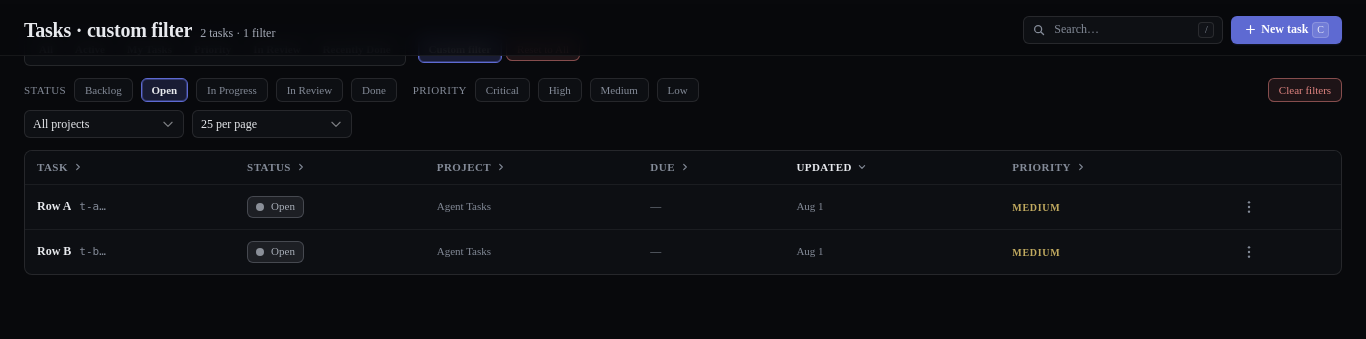
Test: /tasks row action dropping its row: focus recovery › a failed Move to backlog leaves no pending recovery behind
Click the button named "Actions for Row A": click(1249, 207) left=1235, top=193, right=1263, bottom=221
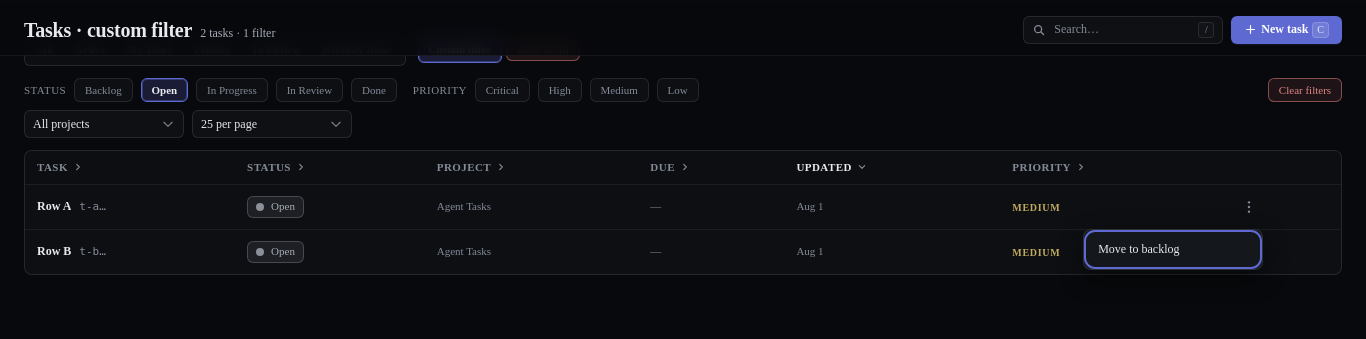
Click the menu item "Move to backlog": click(1173, 249) left=1088, top=234, right=1258, bottom=265
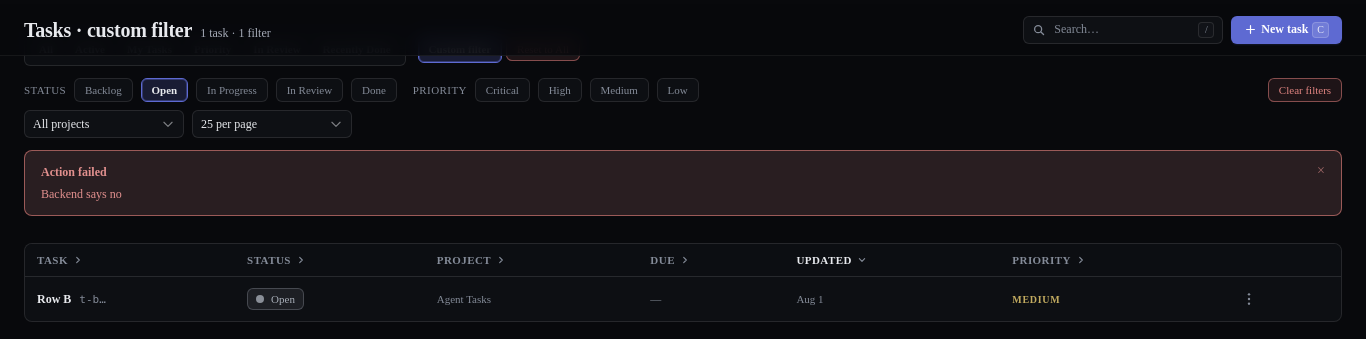
Check: the text "Action failed" is shown, box left=41, top=165, right=107, bottom=179
